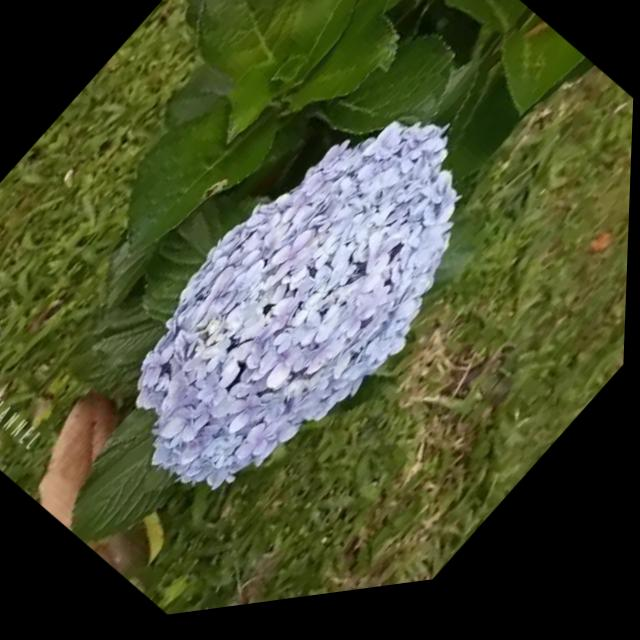Flower: (78, 60, 534, 555)
